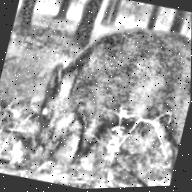boar: (20, 1, 192, 191)
